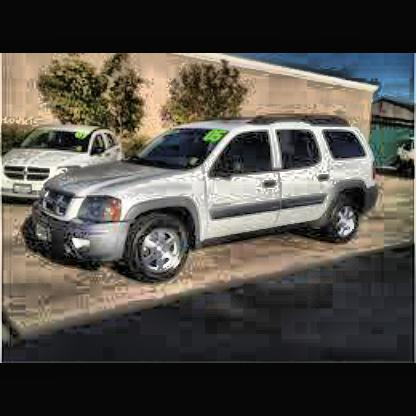Isuzu Ascender SUV 2008: (28, 118, 376, 286)
